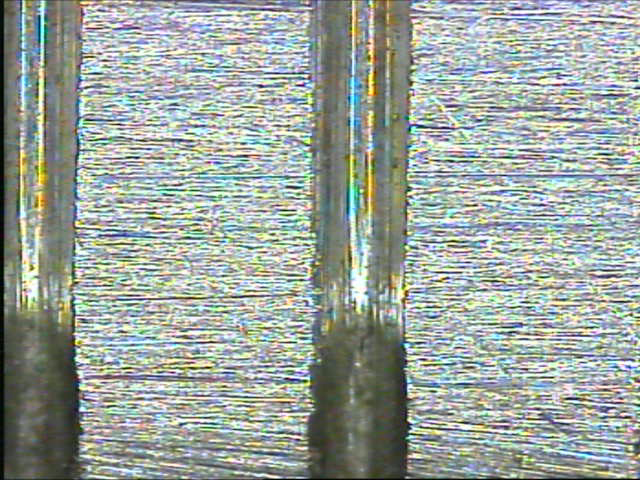line: (305, 1, 416, 478)
